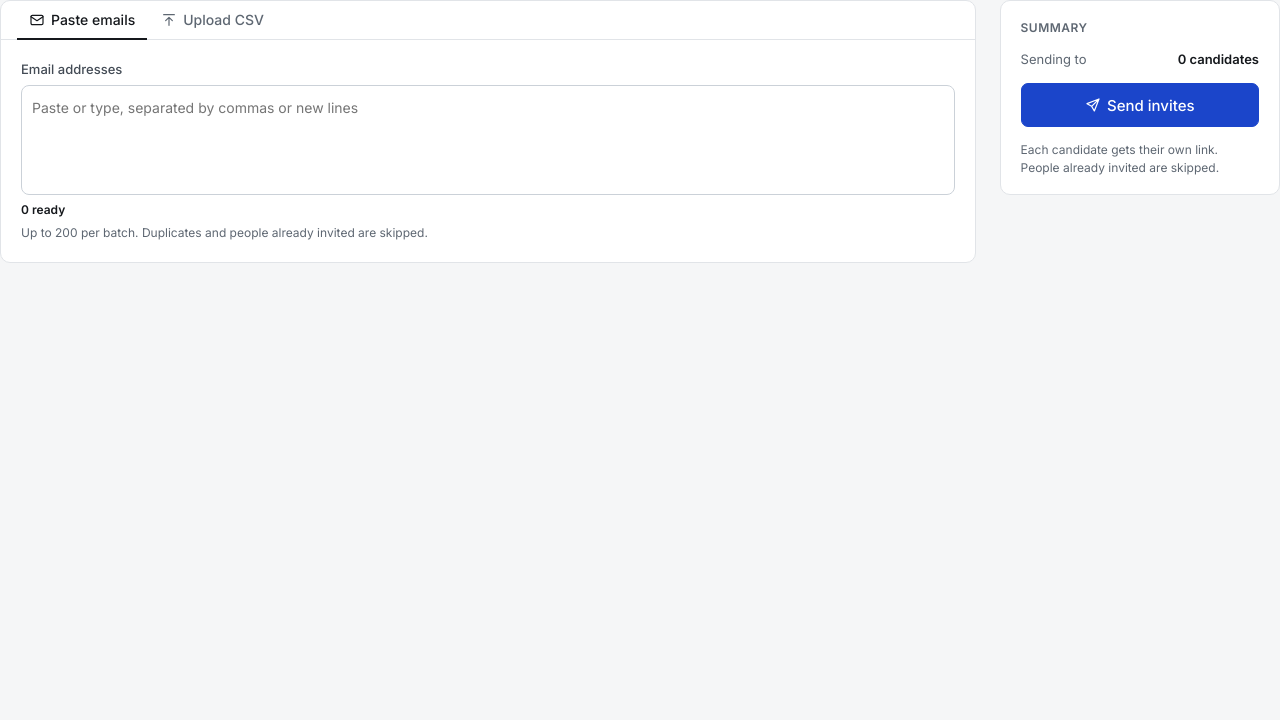
InviteCandidatesForm › lists invalid entries, at most 20, and counts the rest
Type "bad-0" into the text box labelled "Email addresses". click: (488, 109)
box: x1=32 y1=96 x2=944 y2=122
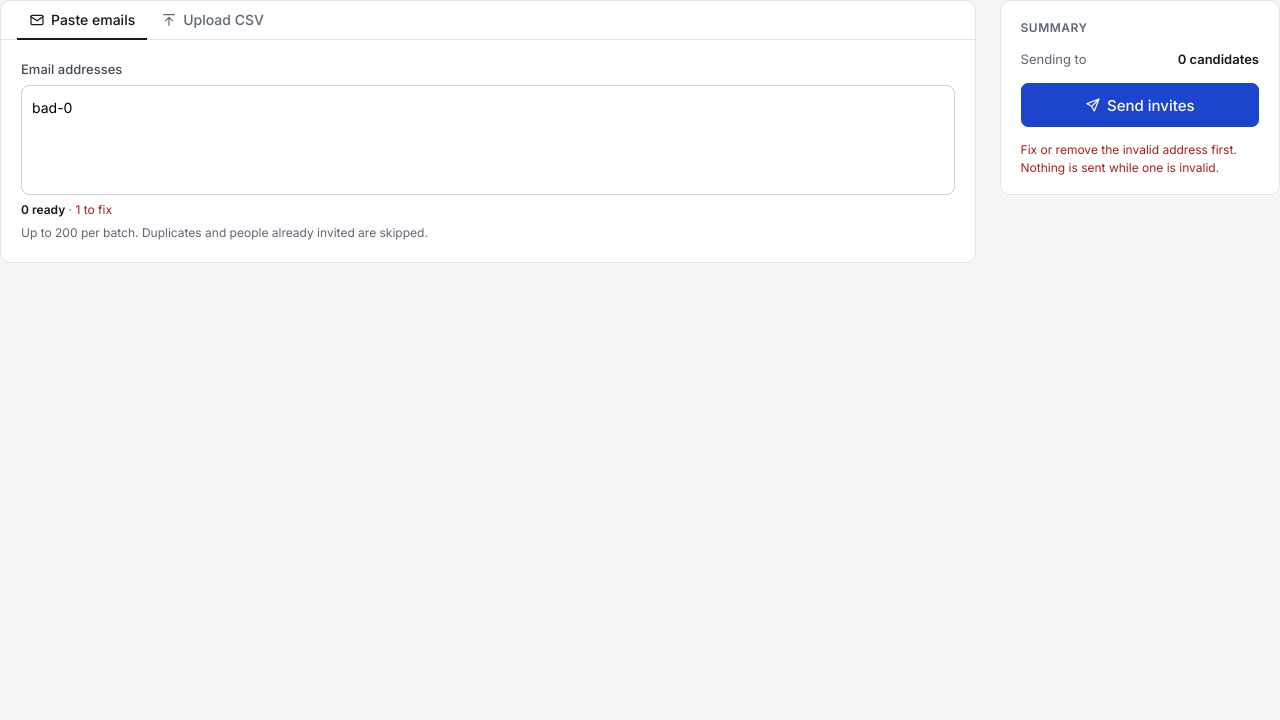
Click the button "Send invites". click: (1140, 105)
box: x1=1021 y1=83 x2=1259 y2=127
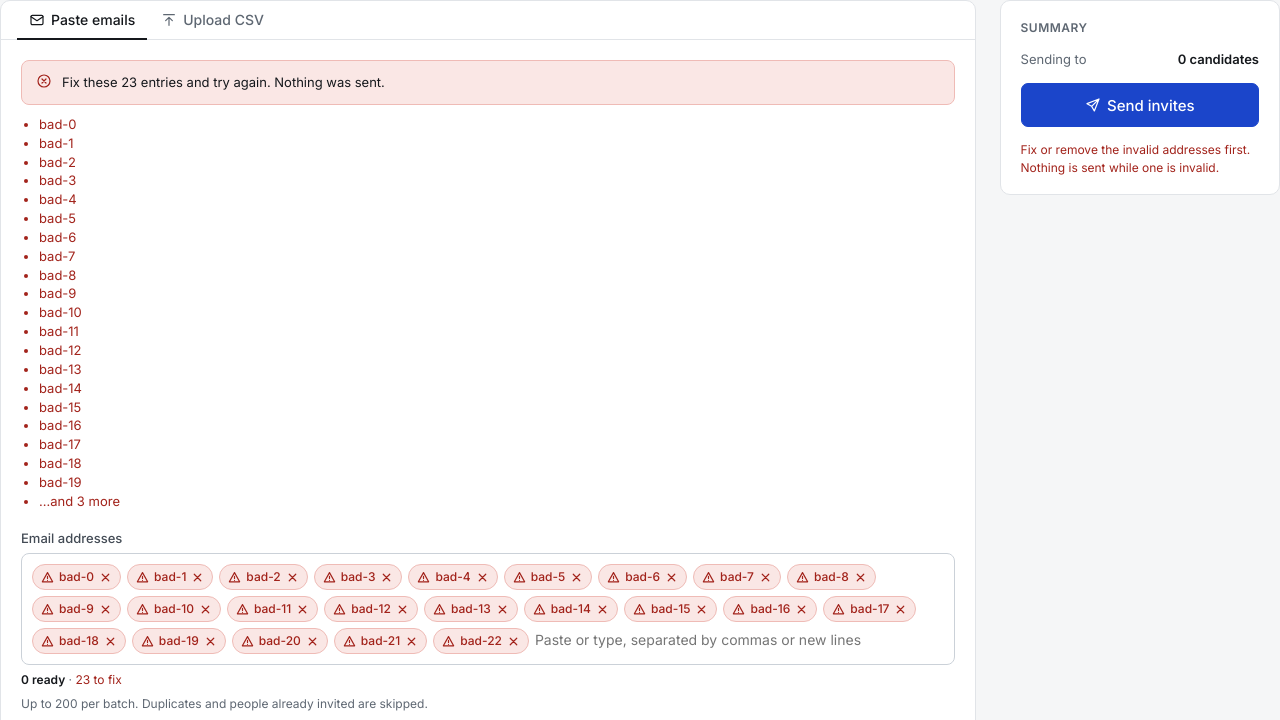
Expected: the text "Fix these 23 entries and try again. Nothing was sent." is shown, x1=62 y1=73 x2=385 y2=92
Expected: the number of list items is 21
Expected: the list item "…and 3 more" is shown, x1=39 y1=493 x2=120 y2=509
